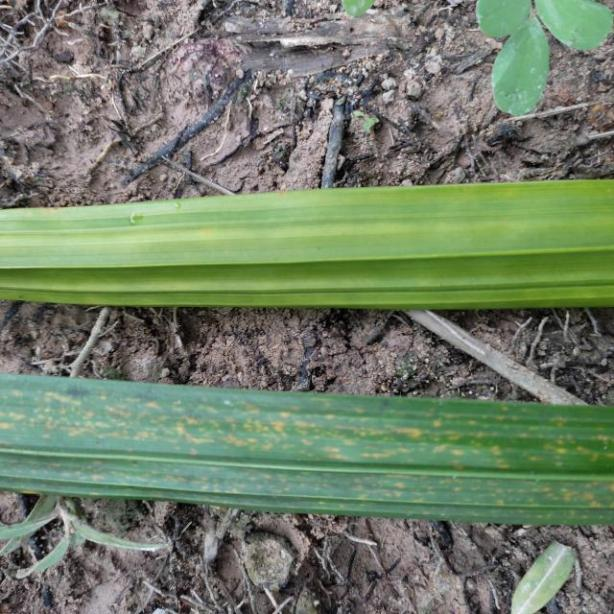nitrogen: (0, 171, 614, 313)
